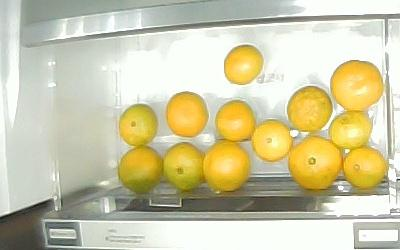tangerine: (288, 137, 342, 190), (330, 60, 383, 111), (201, 142, 250, 192), (118, 146, 165, 193), (287, 87, 333, 133), (165, 142, 204, 192), (165, 92, 209, 136), (342, 146, 386, 190), (215, 100, 255, 141), (252, 121, 292, 162), (330, 110, 374, 147), (224, 44, 263, 85), (120, 104, 158, 145)
